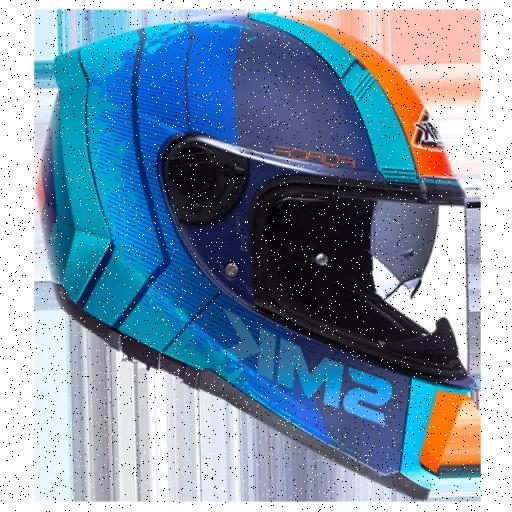Helmet: (40, 25, 481, 506)
